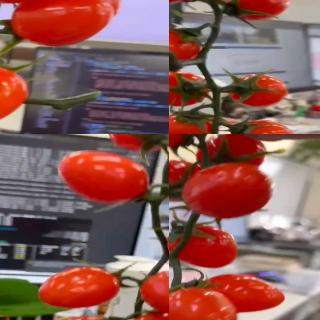tomato: (182, 161, 274, 220), (60, 152, 156, 208), (8, 0, 113, 46), (37, 265, 121, 309), (197, 273, 286, 313), (169, 224, 238, 270), (195, 134, 267, 168), (169, 287, 237, 320), (230, 72, 290, 107), (0, 64, 29, 127), (24, 0, 119, 17), (169, 24, 200, 72), (169, 159, 203, 202), (169, 72, 210, 107), (223, 0, 292, 20), (140, 269, 169, 315), (169, 110, 214, 134), (109, 134, 169, 152), (229, 120, 296, 134)
